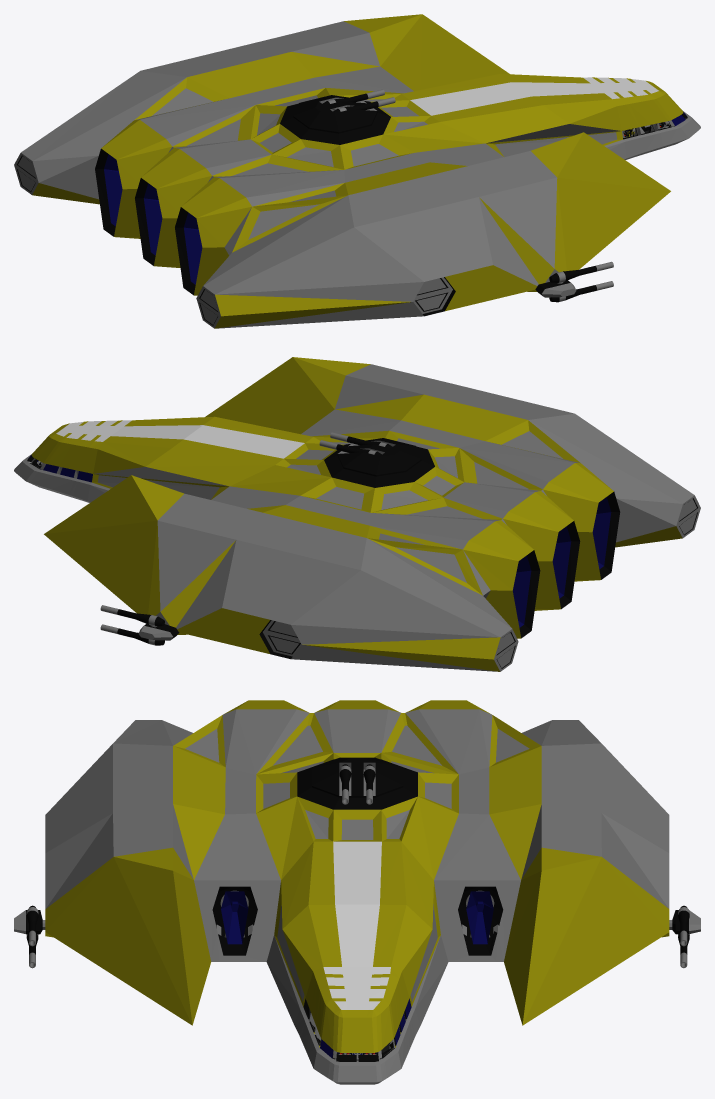
File: estreladosul.obj
3 views of the same model, one above another, from view 1: azimuth 30°, elevation 25°; view 2: azimuth 150°, elevation 25°; view 3: azimuth 270°, elevation 25° (orthographic). The views are drawn at different scales.
Parts seen in each view (by area): view 1: Cube, Cube.002, Cube.022, Cylinder.003, Cylinder, Cube.036_Cube.059, Cube.037_Cube.060, Cube.003; view 2: Cube, Cube.002, Cube.021, Cylinder.002, Cylinder, Cube.037_Cube.060, Cube.036_Cube.059, Cube.004; view 3: Cube, Cube.002, Cylinder.
Part boxes in pixels (box(x1,y1,x2,y2)): Cube: box(21, 14, 700, 328); Cube.002: box(293, 95, 377, 133); Cube.022: box(413, 277, 452, 313); Cylinder.003: box(549, 261, 613, 302); Cylinder: box(322, 89, 395, 113); Cube.036_Cube.059: box(14, 153, 38, 194); Cube.037_Cube.060: box(196, 286, 220, 328); Cube.003: box(535, 280, 576, 297); Cube: box(14, 357, 694, 671); Cube.002: box(337, 438, 421, 476); Cube.021: box(263, 620, 301, 656); Cylinder.002: box(100, 605, 164, 645); Cylinder: box(319, 432, 392, 455); Cube.037_Cube.060: box(676, 495, 700, 537); Cube.036_Cube.059: box(494, 629, 518, 671); Cube.004: box(138, 624, 179, 640); Cube: box(45, 700, 669, 1084); Cube.002: box(312, 757, 403, 797); Cylinder: box(339, 764, 375, 804).
Bounding box in the file's own units: 5.84 × 1.32 × 5.29.
